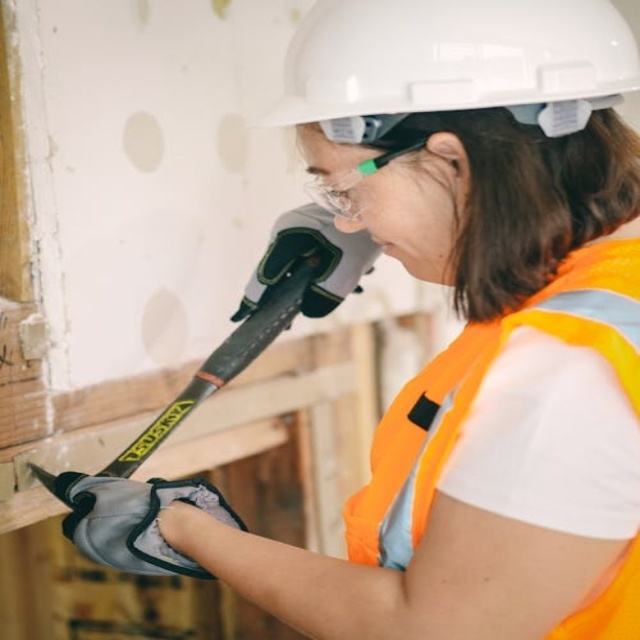Gafas: (300, 132, 434, 227)
Guantes: (22, 458, 253, 583)
Sin_mascara: (364, 230, 443, 283)
